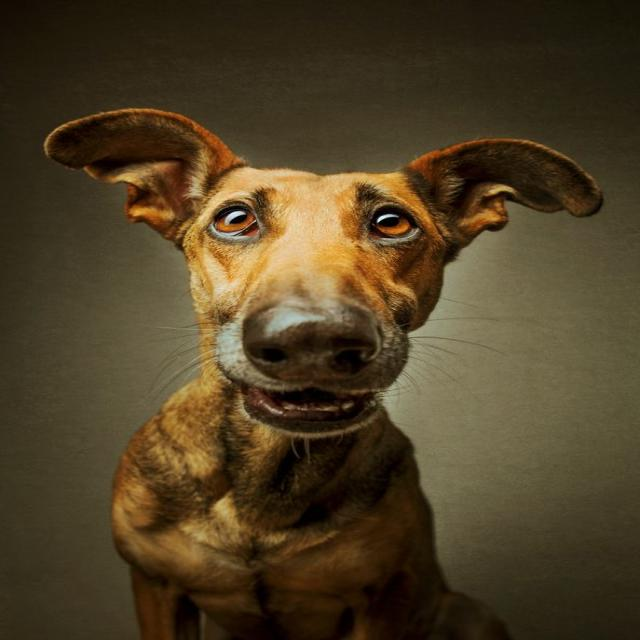dog: (31, 75, 610, 450)
